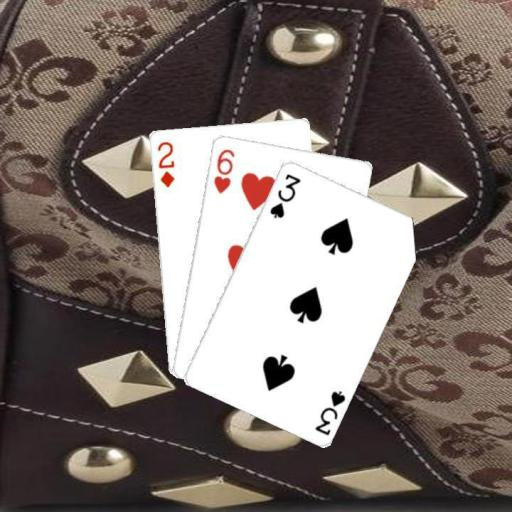card-corner: (266, 170, 302, 220), (311, 386, 347, 436), (210, 145, 236, 195), (154, 138, 176, 188)
